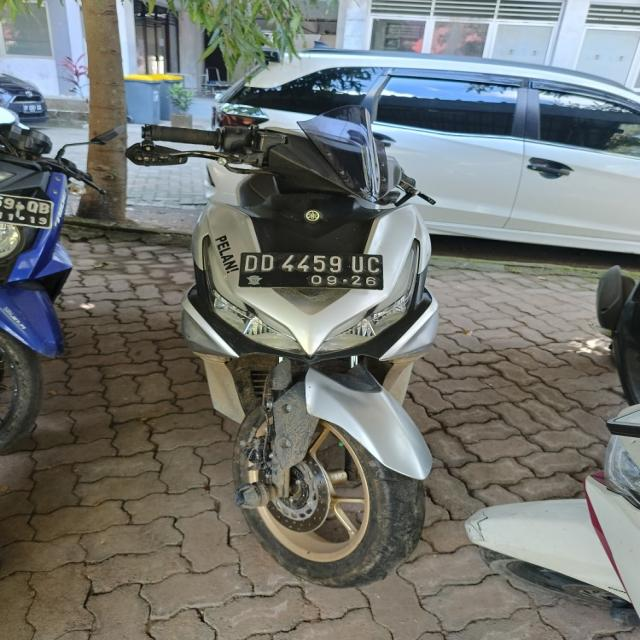plates: (245, 254, 395, 286)
